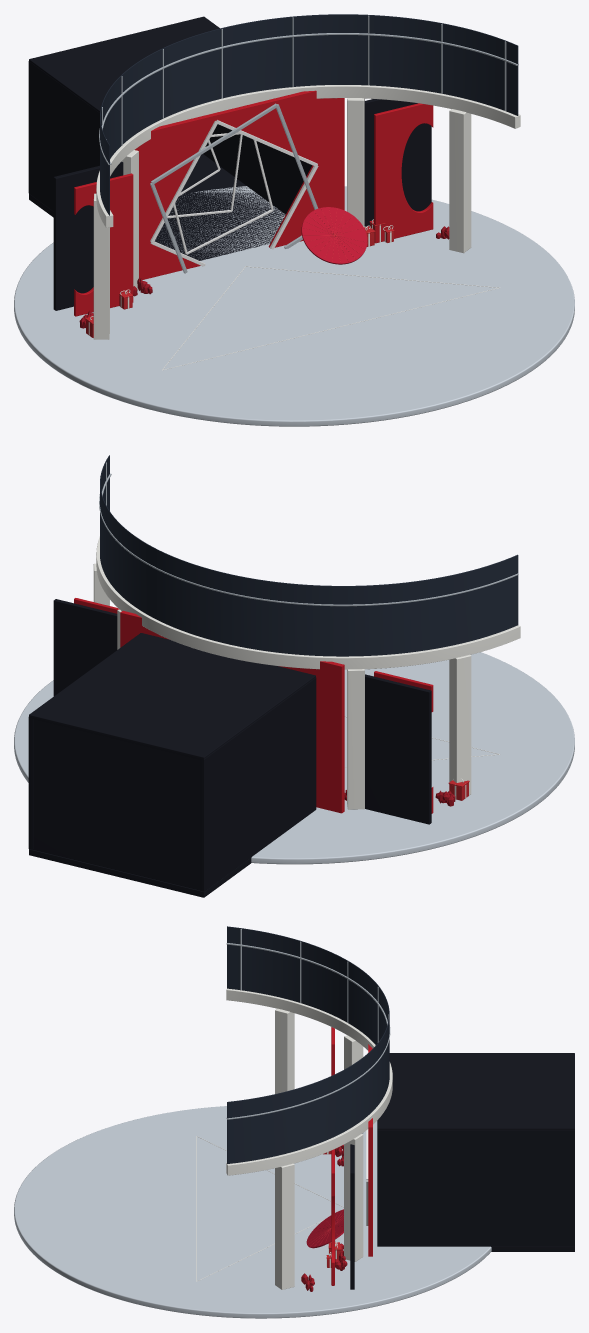
Rendered from R04_twistframe_hall.glb.
3 renders of one model, top to bottom at view 1: azimuth 30°, elevation 25°; view 2: azimuth 150°, elevation 25°; view 3: azimuth 270°, elevation 25°, orthographic. The views are drawn at different scales.
Parts seen in each view (by area): view 1: finite pale stage slab, upper curved dark glazing, central red facade with real opening, inferred continuous tunnel floor, tunnel left return, tunnel upper dark return, white curved upper fascia, right red screen, left dark bay return, tunnel right return, left red screen, right dark bay return (+8 smaller); view 2: upper curved dark glazing, finite pale stage slab, tunnel distant dark stop, tunnel upper dark return, tunnel left return, left dark bay return, white curved upper fascia, central red facade with real opening, right dark bay return, white pier -59, white pier -33, inferred continuous tunnel floor (+2 smaller); view 3: finite pale stage slab, tunnel right return, upper curved dark glazing, tunnel upper dark return, white curved upper fascia, white pier +59, white pier +33, white pier -59, upper narrow glazing rail, tilted crimson circular disc, right dark bay return, central red facade with real opening (+2 smaller).
Boxes of the visible parts, <box> form: finite pale stage slab: <box>14,186,574,426</box>; upper curved dark glazing: <box>100,14,518,215</box>; central red facade with real opening: <box>135,90,344,279</box>; inferred continuous tunnel floor: <box>29,154,285,260</box>; tunnel left return: <box>28,61,99,211</box>; tunnel upper dark return: <box>29,16,219,125</box>; white curved upper fascia: <box>96,85,520,227</box>; right red screen: <box>374,103,433,243</box>; left dark bay return: <box>53,161,123,310</box>; tunnel right return: <box>203,125,312,214</box>; left red screen: <box>74,173,133,316</box>; right dark bay return: <box>364,99,431,226</box>; upper curved dark glazing: <box>100,455,518,656</box>; finite pale stage slab: <box>14,652,574,864</box>; tunnel distant dark stop: <box>33,719,199,890</box>; tunnel upper dark return: <box>29,633,315,759</box>; tunnel left return: <box>200,677,316,891</box>; left dark bay return: <box>365,674,431,824</box>; white curved upper fascia: <box>96,537,520,669</box>; central red facade with real opening: <box>120,610,344,813</box>; right dark bay return: <box>53,599,117,696</box>; white pier -59: <box>449,654,471,795</box>; white pier -33: <box>347,669,364,809</box>; inferred continuous tunnel floor: <box>29,849,251,897</box>; finite pale stage slab: <box>14,1106,491,1318</box>; tunnel right return: <box>377,1130,574,1246</box>; upper curved dark glazing: <box>227,926,389,1163</box>; tunnel upper dark return: <box>377,1053,574,1129</box>; white curved upper fascia: <box>226,988,392,1175</box>; white pier +59: <box>275,1163,294,1289</box>; white pier +33: <box>344,1134,363,1261</box>; white pier -59: <box>275,1008,294,1093</box>; upper narrow glazing rail: <box>226,943,390,1119</box>; tilted crimson circular disc: <box>306,1209,343,1248</box>; right dark bay return: <box>350,1144,354,1289</box>; central red facade with real opening: <box>368,1044,372,1256</box>.
Bounding box in the file's own units: 23 × 10.28 × 26.1.
